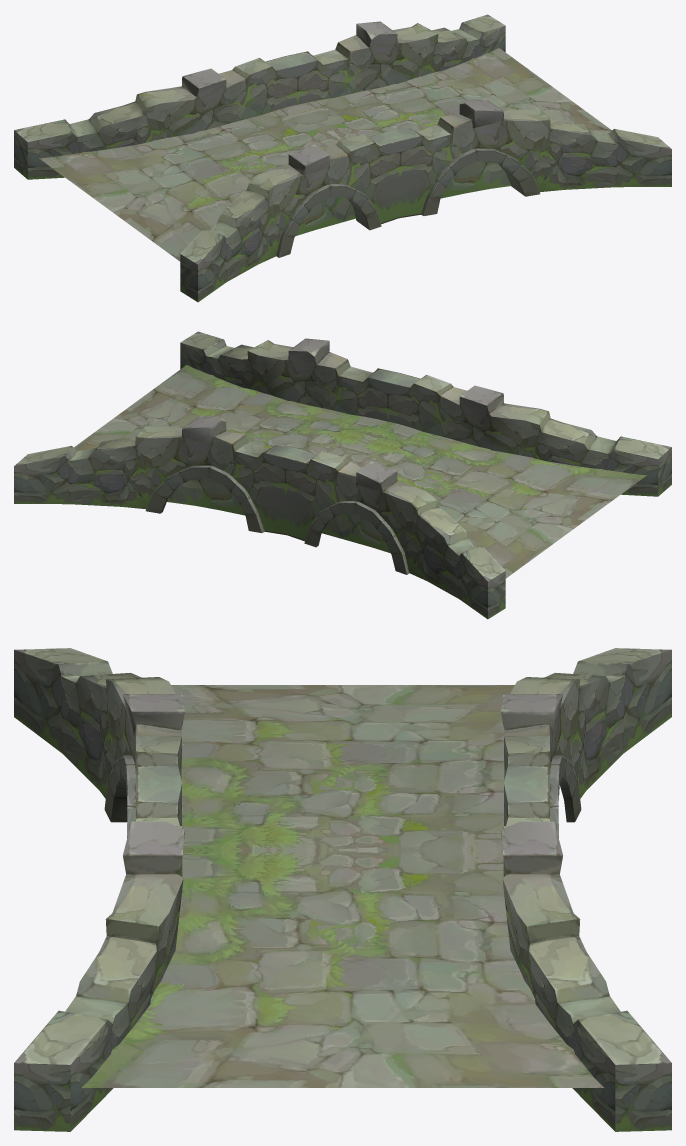
Rendered from Map_04_bridge03.FBX.
The picture shows the model from 3 angles, top to bottom: view 1: azimuth 30°, elevation 25°; view 2: azimuth 150°, elevation 25°; view 3: azimuth 270°, elevation 25°; orthographic projection. The views are drawn at different scales.
Visible parts, largest first — view 1: Map_04_bridge03; view 2: Map_04_bridge03; view 3: Map_04_bridge03.
Boxes of the visible parts, <box> form: Map_04_bridge03: <box>14,14,671,302</box>; Map_04_bridge03: <box>14,331,671,619</box>; Map_04_bridge03: <box>14,648,671,1131</box>.
Bounding box in the file's own units: 134 × 24.95 × 89.29.
